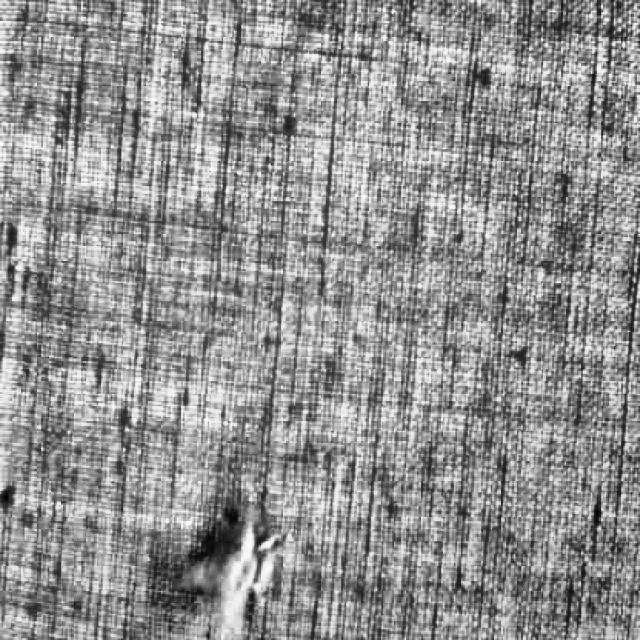objects: (165, 494, 286, 640)
